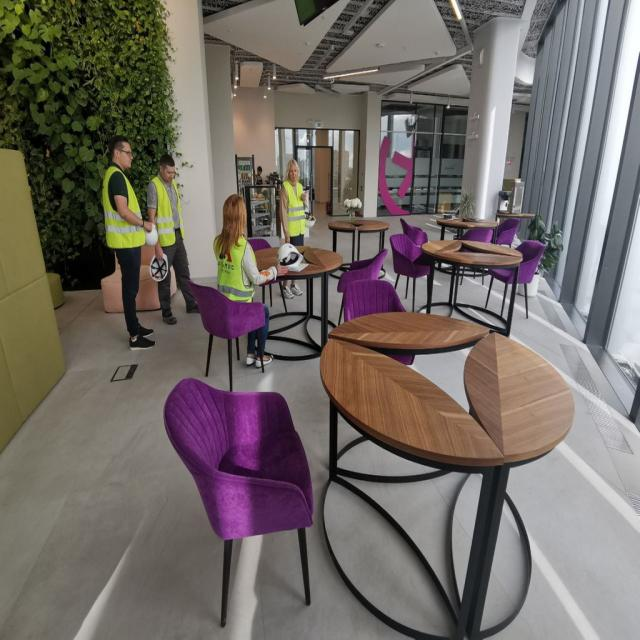Helmet: (277, 241, 306, 269), (149, 253, 172, 284), (145, 225, 161, 248)
NoHelmet: (109, 138, 137, 171), (223, 197, 248, 233), (158, 156, 179, 186), (283, 161, 302, 185)
